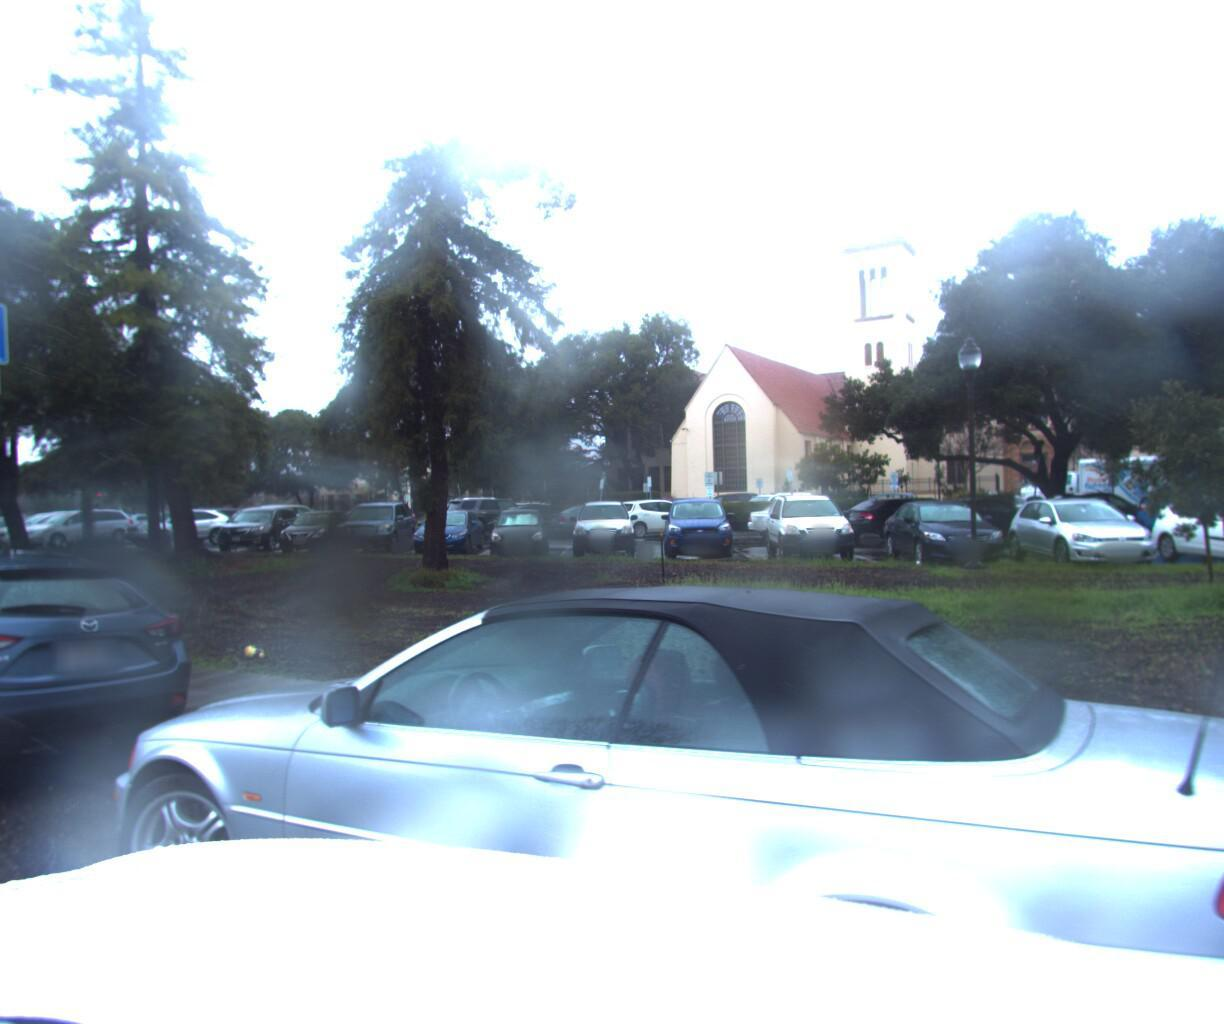car: (18, 563, 1224, 1024), (0, 544, 219, 853)
